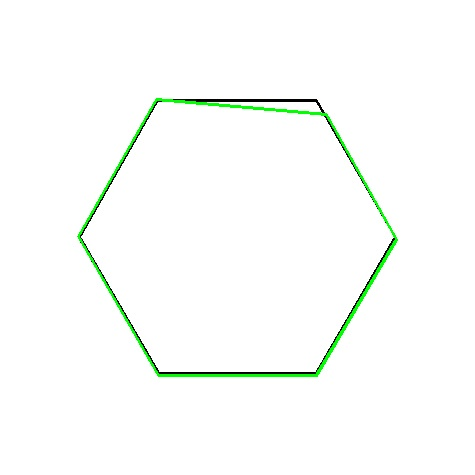line_segment: (78, 98, 397, 376)
